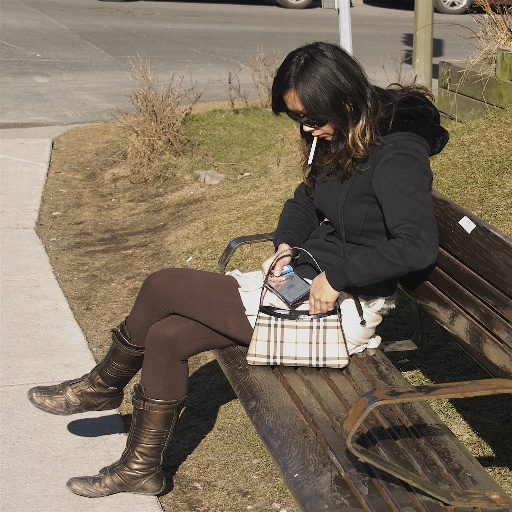hand: (298, 274, 354, 322), (258, 252, 292, 286)
